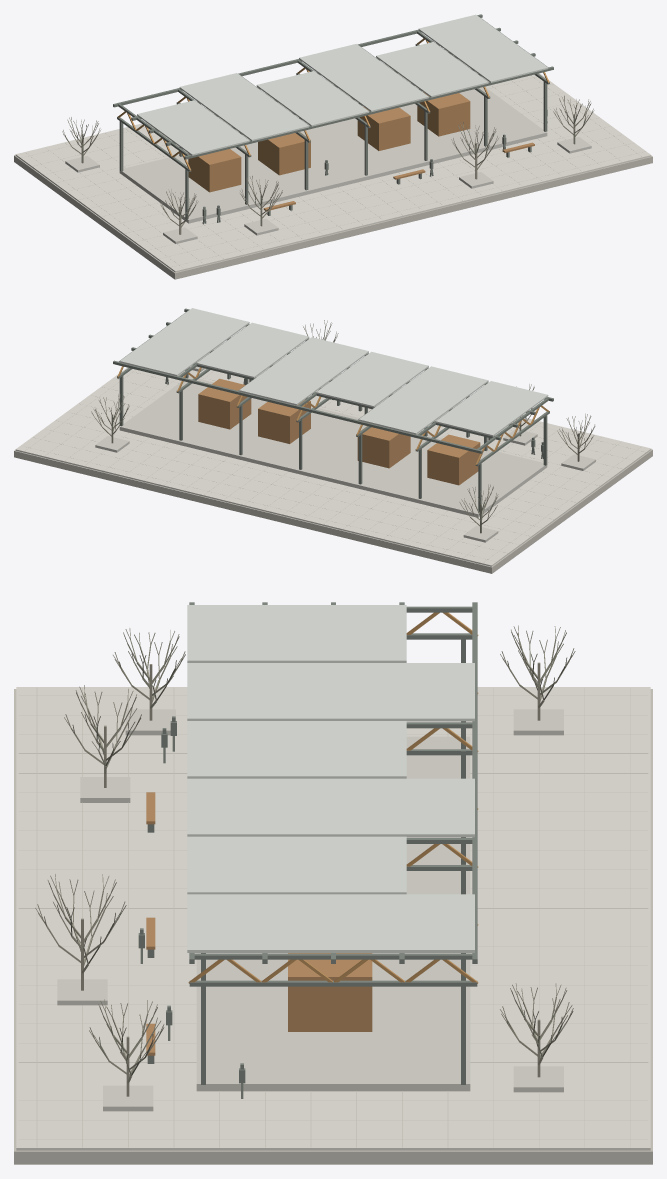
File: lattice.glb
The picture shows the model from 3 angles, top to bottom: view 1: azimuth 30°, elevation 25°; view 2: azimuth 150°, elevation 25°; view 3: azimuth 270°, elevation 25°; orthographic projection. The views are drawn at different scales.
Visible parts, largest first — view 1: Site / Ground - Plaster, Enclosure / Roof panels - Aluminum, Structure / Floor - Concrete, Site / Ground - Paving, Interior / Market kiosks - Cedar, Site / Planting - Branch, Structure / Longitudinal beams - Steel, Site / Ground - Concrete, Structure / Columns - Steel, Structure / Roof trusses - Steel, Structure / Diagonals - Ochre, Site / Furniture - Cedar; view 2: Site / Ground - Plaster, Enclosure / Roof panels - Aluminum, Structure / Floor - Concrete, Site / Ground - Paving, Interior / Market kiosks - Cedar, Structure / Longitudinal beams - Steel, Structure / Columns - Steel, Structure / Roof trusses - Steel, Site / Planting - Branch, Site / Ground - Concrete, Structure / Diagonals - Ochre; view 3: Site / Ground - Plaster, Enclosure / Roof panels - Aluminum, Structure / Floor - Concrete, Site / Ground - Paving, Site / Planting - Branch, Site / Ground - Concrete, Structure / Roof trusses - Steel, Interior / Market kiosks - Cedar, Structure / Diagonals - Ochre, Structure / Longitudinal beams - Steel, Structure / Columns - Steel, Site / Furniture - Cedar (+1 smaller).
Boxes of the visible parts, x1,y1,x2,y2 form: Site / Ground - Plaster: (15, 50, 651, 272); Enclosure / Roof panels - Aluminum: (137, 14, 548, 155); Structure / Floor - Concrete: (119, 87, 547, 223); Site / Ground - Paving: (14, 75, 652, 279); Interior / Market kiosks - Cedar: (188, 92, 470, 192); Site / Planting - Branch: (62, 41, 594, 234); Structure / Longitudinal beams - Steel: (113, 14, 553, 159); Site / Ground - Concrete: (65, 137, 591, 243); Structure / Columns - Steel: (119, 74, 547, 219); Structure / Roof trusses - Steel: (117, 16, 549, 171); Structure / Diagonals - Ochre: (118, 38, 549, 170); Site / Furniture - Cedar: (263, 142, 534, 210); Site / Ground - Plaster: (15, 344, 651, 566); Enclosure / Roof panels - Aluminum: (119, 308, 548, 436); Structure / Floor - Concrete: (119, 376, 547, 517); Site / Ground - Paving: (14, 362, 652, 573); Interior / Market kiosks - Cedar: (198, 378, 480, 485); Structure / Longitudinal beams - Steel: (113, 308, 553, 453); Structure / Columns - Steel: (119, 368, 547, 512); Structure / Roof trusses - Steel: (117, 311, 549, 466); Site / Planting - Branch: (91, 320, 595, 533); Site / Ground - Concrete: (95, 358, 595, 542); Structure / Diagonals - Ochre: (117, 366, 549, 464); Site / Ground - Plaster: (16, 687, 650, 1150); Enclosure / Roof panels - Aluminum: (187, 605, 474, 952); Structure / Floor - Concrete: (196, 736, 470, 1091); Site / Ground - Paving: (14, 687, 652, 1164); Site / Planting - Branch: (35, 625, 575, 1096); Site / Ground - Concrete: (57, 709, 563, 1111); Structure / Roof trusses - Steel: (189, 606, 477, 986); Interior / Market kiosks - Cedar: (288, 953, 372, 1031); Structure / Diagonals - Ochre: (188, 612, 478, 983); Structure / Longitudinal beams - Steel: (189, 602, 477, 963); Structure / Columns - Steel: (201, 633, 465, 1084); Site / Furniture - Cedar: (146, 792, 155, 1055).
Bounding box in the file's own units: 48 × 7.52 × 28.
